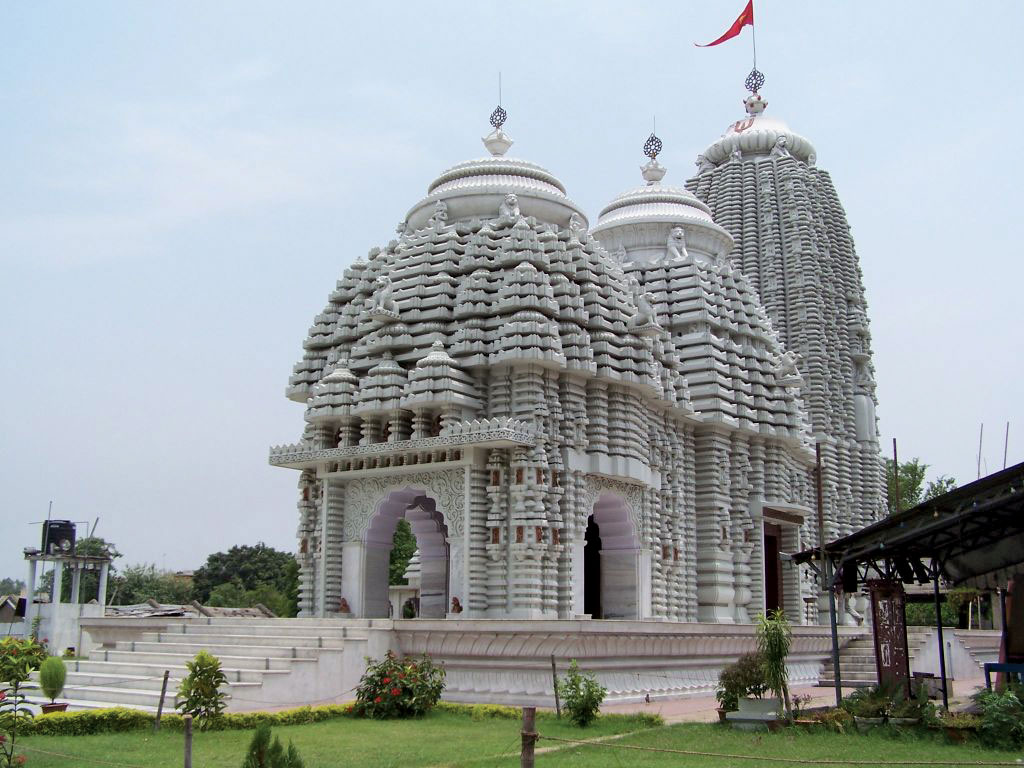Temple: (308, 44, 886, 680)
